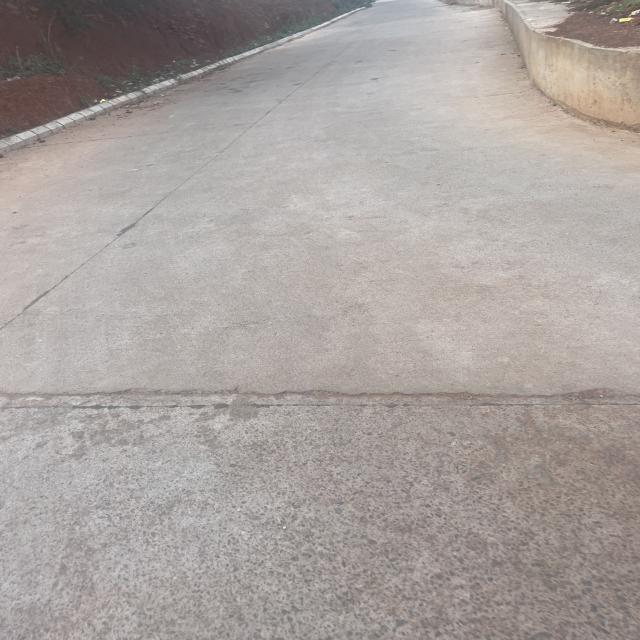D43: (30, 356, 631, 443)
